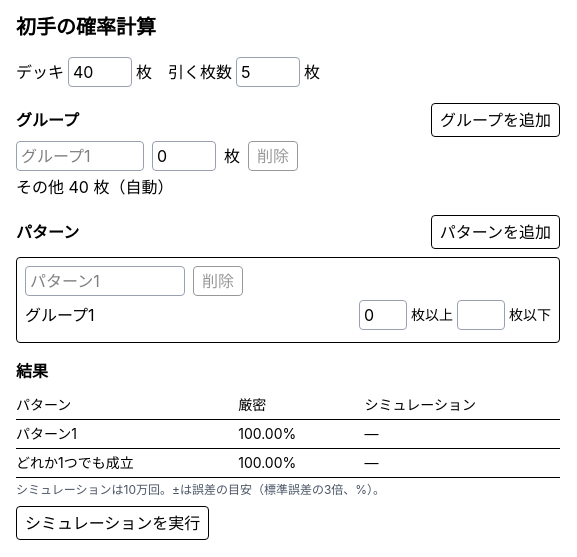
Scenario: デッキ枚数を空にすると、誤りが出る
Step 1. Clear the number field named "デッキ枚数" → (100, 72), box x1=68 y1=57 x2=132 y2=87
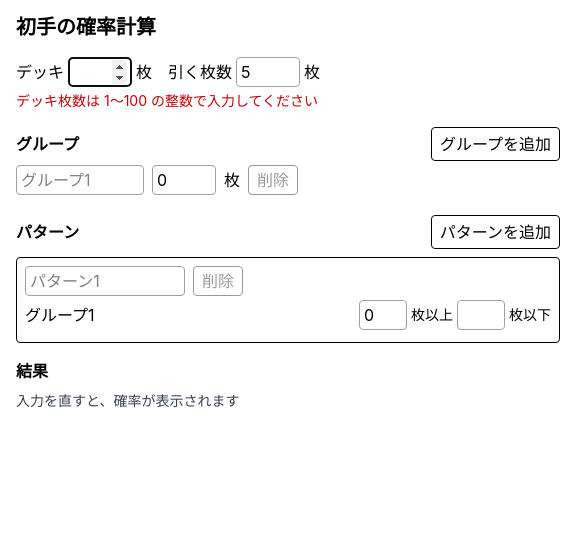
Result: the message reads "デッキ枚数は 1〜100 の整数で入力してください" at x1=16 y1=92 x2=318 y2=109
